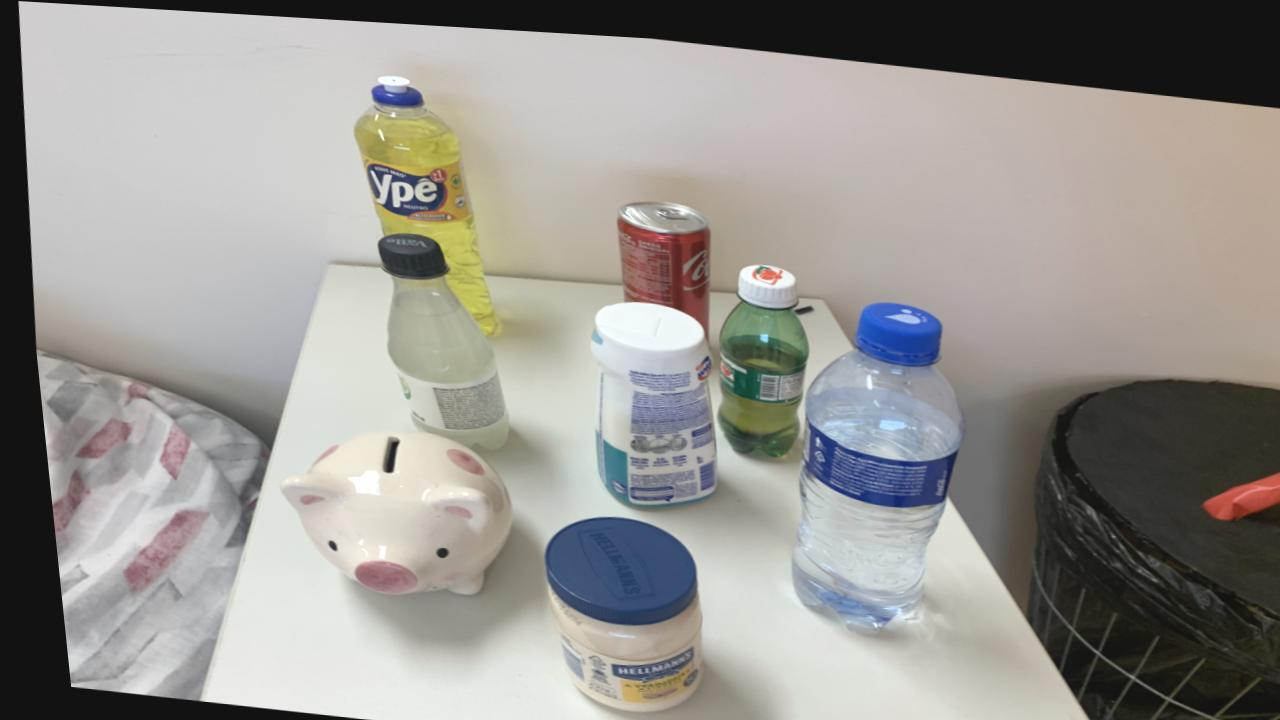Cleaner-Cleanup_Items: (583, 294, 707, 501)
Coke-Drinks: (612, 193, 707, 326)
Detergent-Cleanup_Items: (352, 71, 492, 330)
Guarana-Drinks: (710, 255, 801, 448)
Mayonnaise-Pantry_Items: (532, 510, 689, 706)
Pig_Safe-Miscellaneous: (270, 427, 501, 591)
Soda-Drinks: (372, 228, 500, 444)
Water_Bottle-Drinks: (781, 292, 955, 622)
